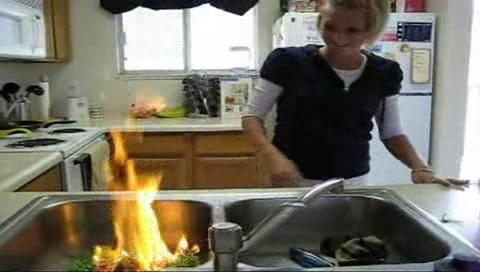fire: (99, 128, 186, 267)
